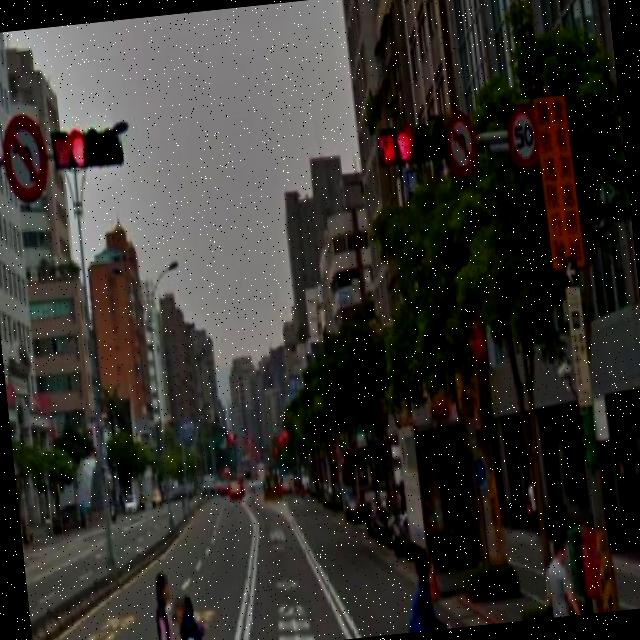Ograniczenie predkosci do 50: (501, 98, 545, 172)
